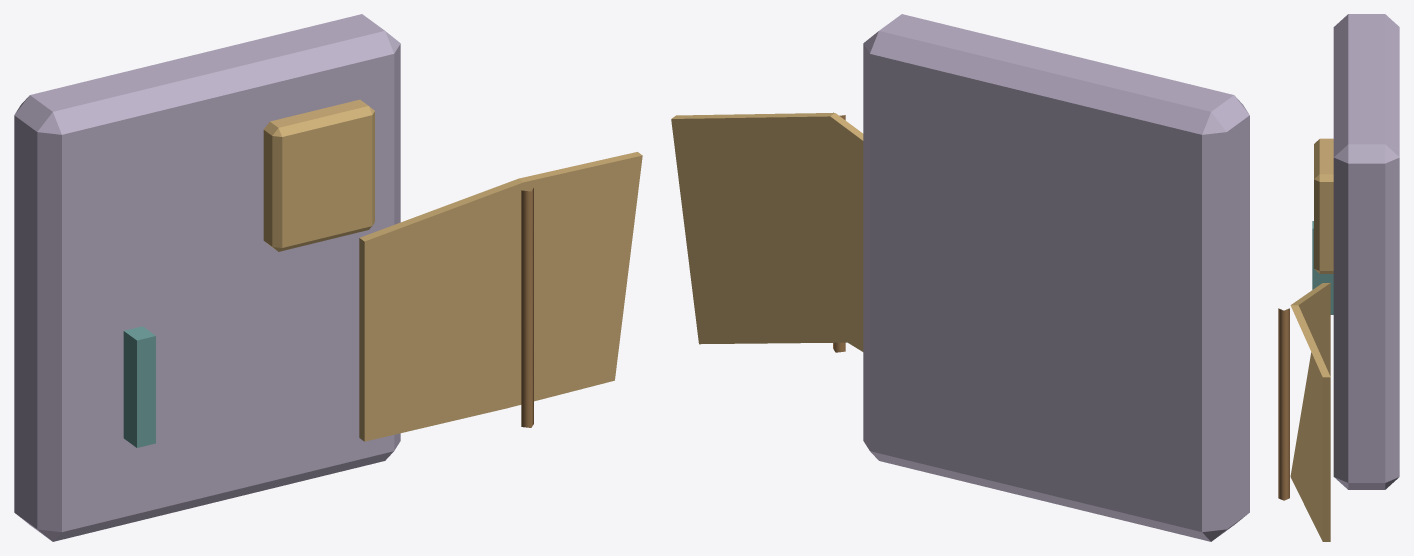
File: biped_researcher.glb
3 views of the same model, side by side, from view 1: azimuth 30°, elevation 25°; view 2: azimuth 150°, elevation 25°; view 3: azimuth 270°, elevation 25° (orthographic). The views are drawn at different scales.
Visible parts, largest first — view 1: biped_researcher; view 2: biped_researcher; view 3: biped_researcher.
Boxes of the visible parts, <box> form: biped_researcher: <box>14,14,642,541</box>; biped_researcher: <box>671,14,1249,541</box>; biped_researcher: <box>1278,14,1399,541</box>.
Size of the model in its own units: 0.373 by 0.26 by 0.0829.
